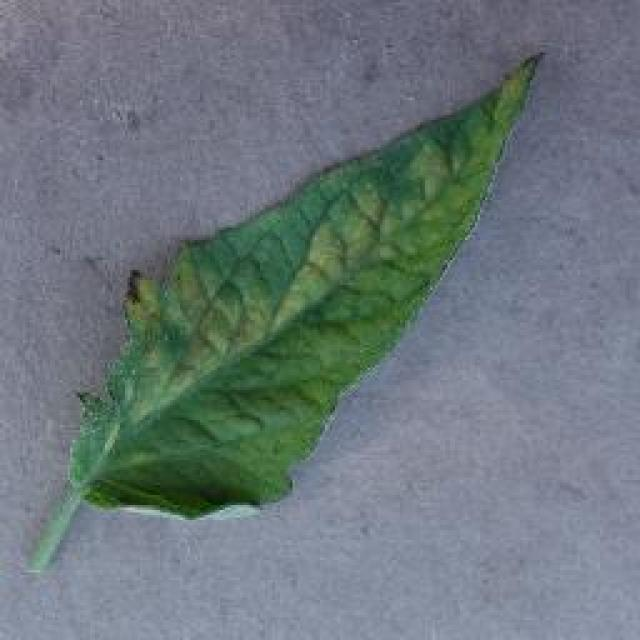Tomato mold leaf: (68, 49, 540, 528)
